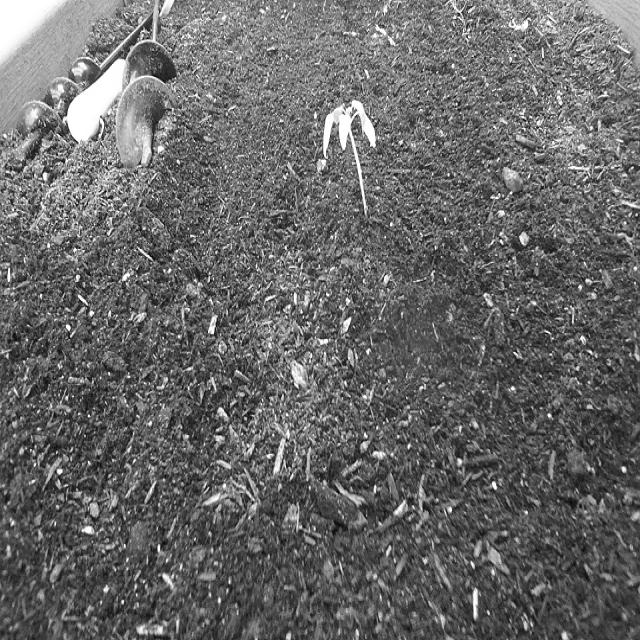Healthy: (321, 100, 385, 212)
